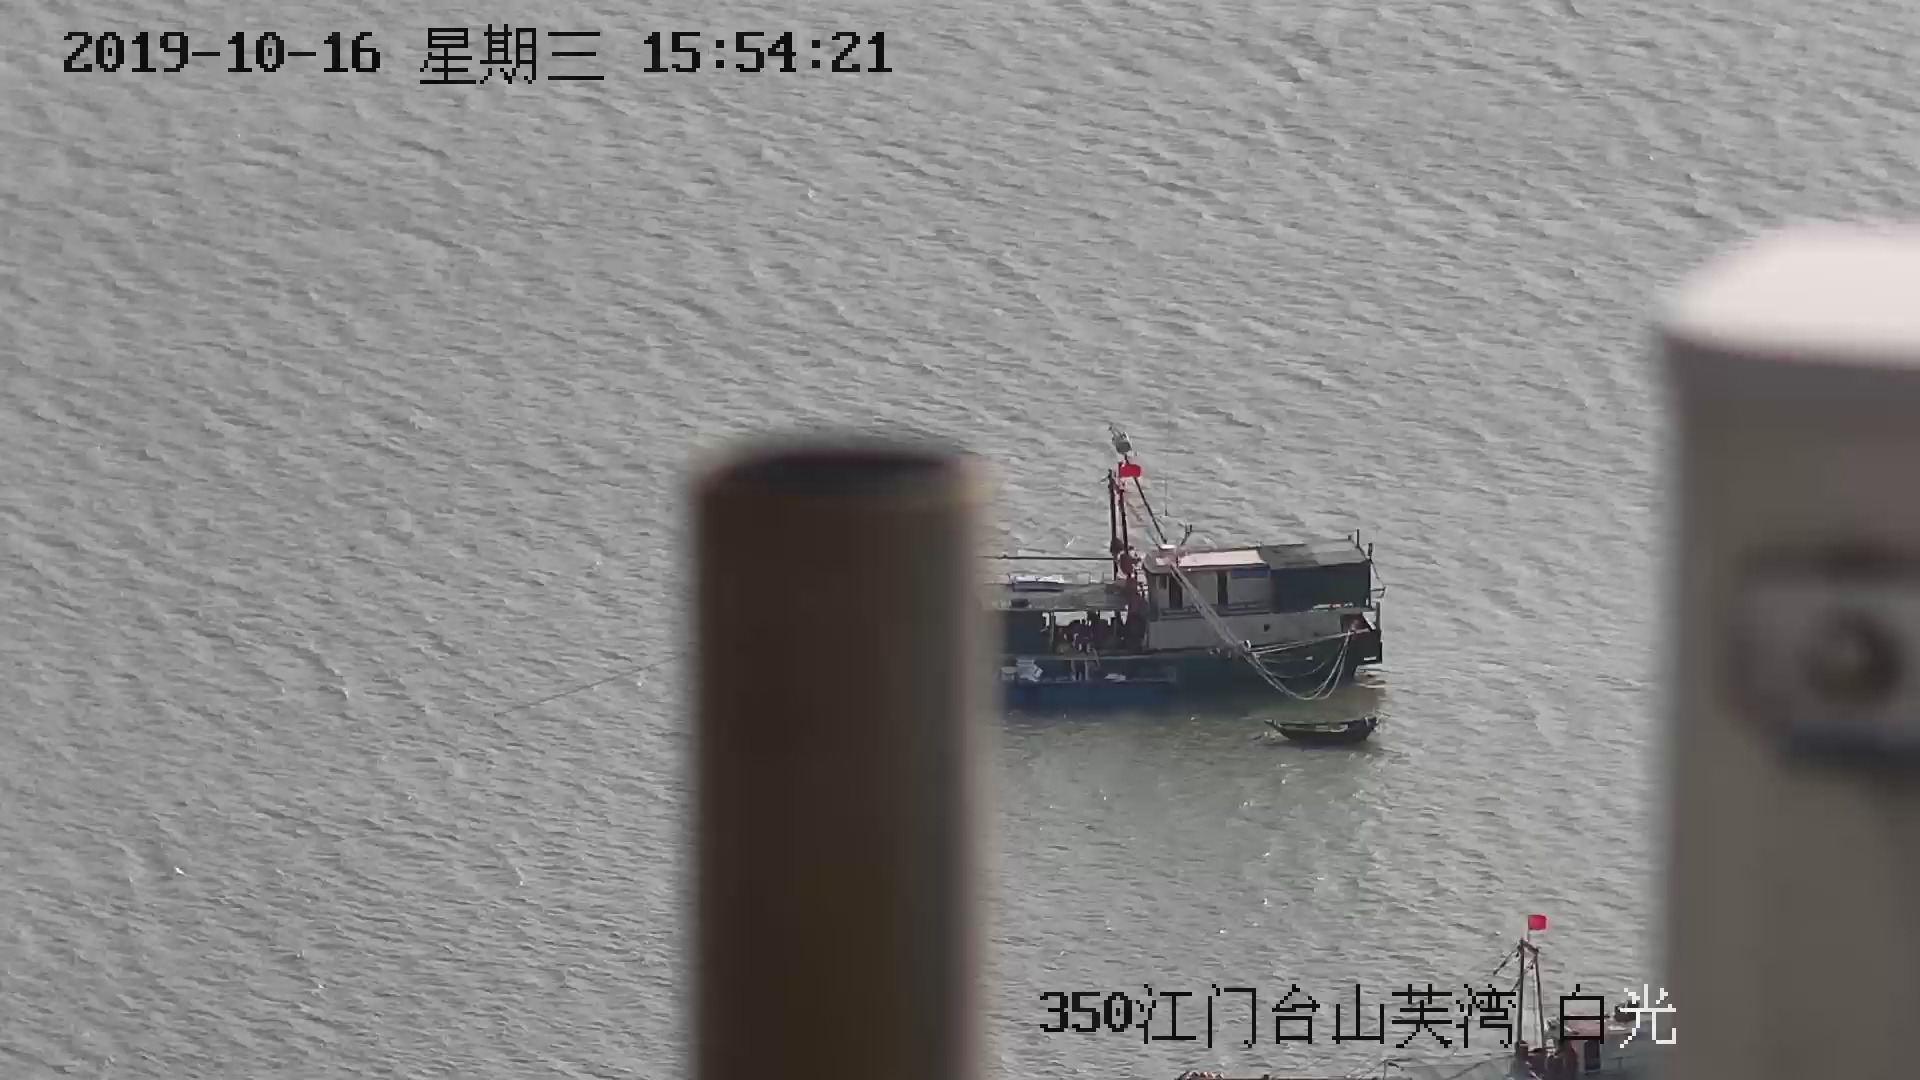ship: (989, 430, 1386, 715), (1259, 713, 1378, 746)
